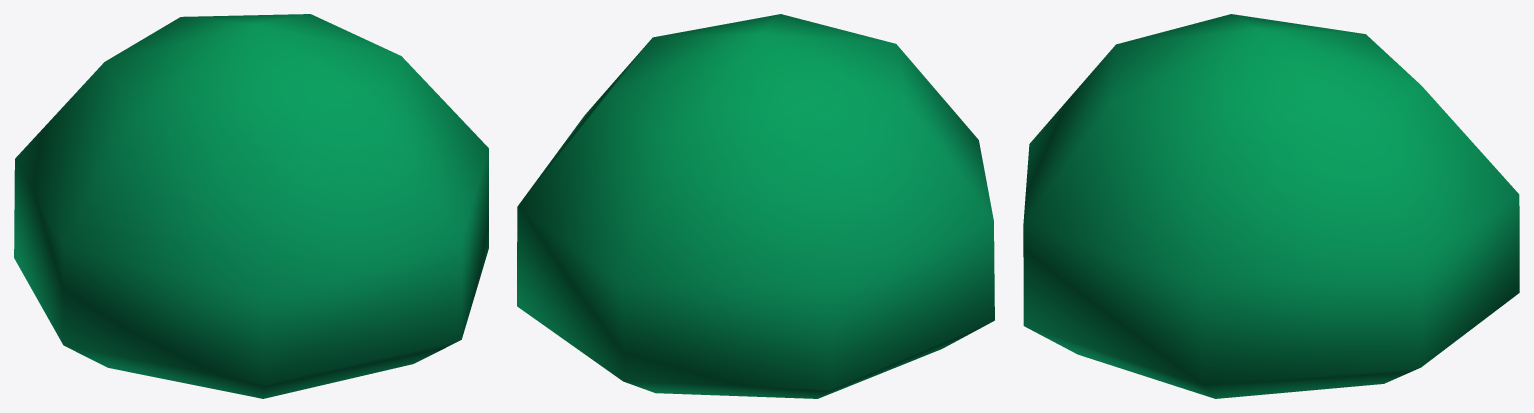
File: bush_A.glb
3 views of the same model, side by side, from view 1: azimuth 30°, elevation 25°; view 2: azimuth 150°, elevation 25°; view 3: azimuth 270°, elevation 25° (orthographic).
Parts seen in each view (by area): view 1: bush_A; view 2: bush_A; view 3: bush_A.
Part boxes in pixels (x1,y1,x2,y2): bush_A: (14, 14, 488, 398); bush_A: (517, 14, 994, 398); bush_A: (1023, 14, 1519, 398).
Bounding box in the file's own units: 0.5099 × 0.3365 × 0.5195.
Materials: 1 (1 with a texture image).
